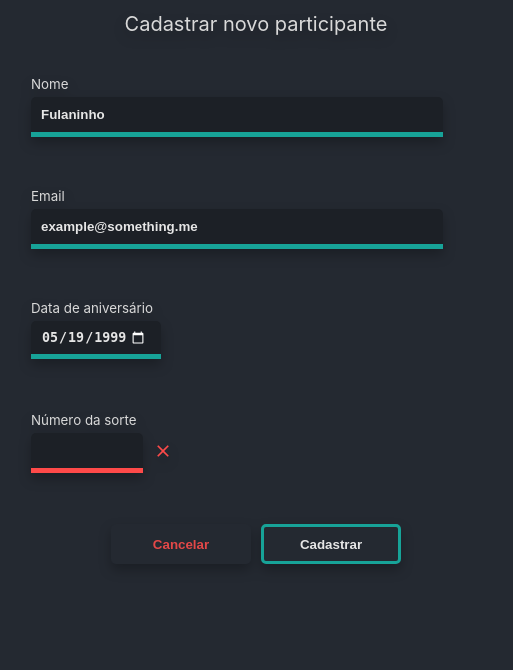
Scenario: Testes › Testando data de aniversário › Testando campo de número com um número válido
Type "666" into the number field labelled "Número da sorte".
click(87, 453); type("666")  # box [31,433,143,473]
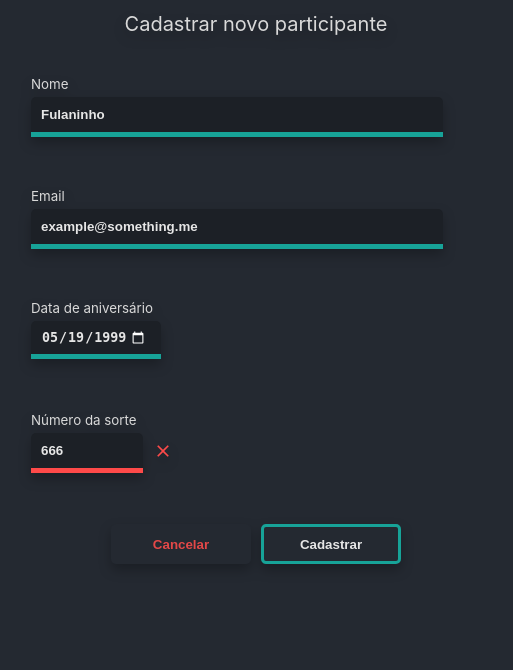
Click the button with class "registerButton".
click(331, 544)  # box [261,524,401,564]
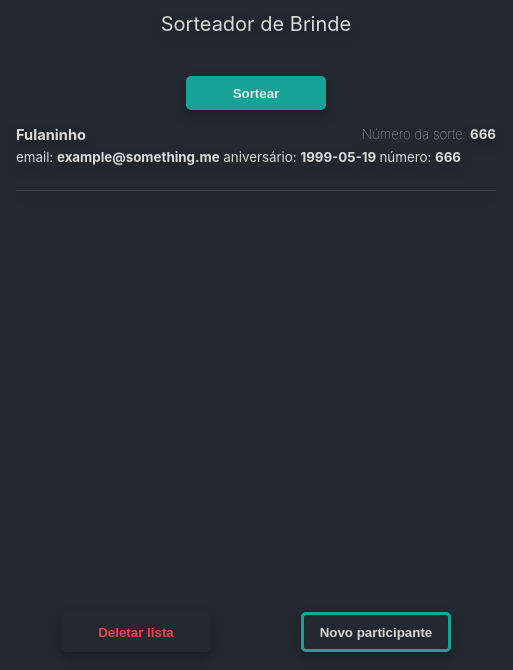
expect the icon is gone: met
